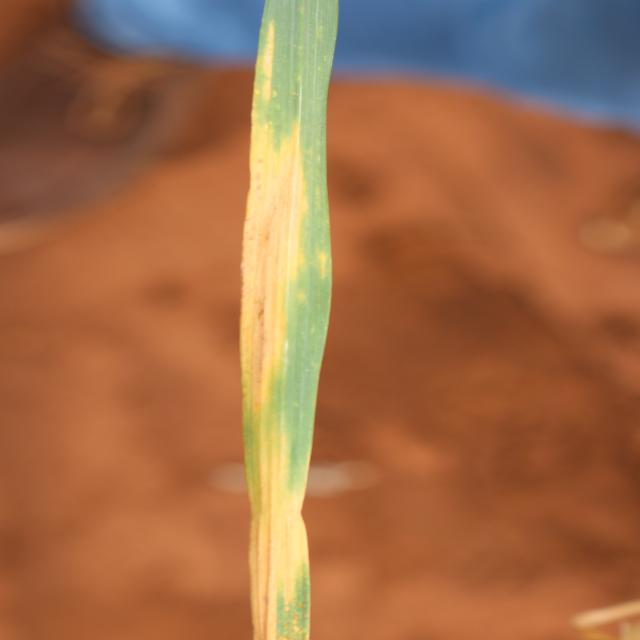Septoria: (237, 1, 339, 638)
